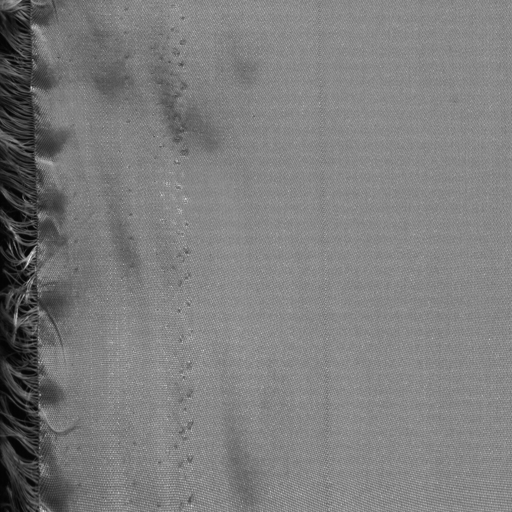defect: (312, 1, 335, 512), (144, 46, 232, 163), (83, 9, 136, 107), (102, 199, 147, 276), (230, 46, 263, 96), (446, 94, 463, 109)
